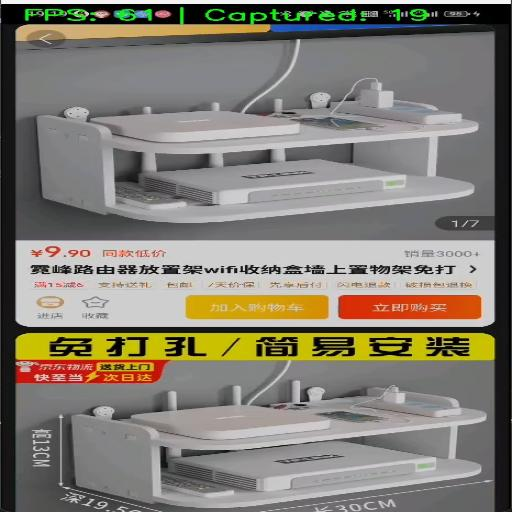back: (28, 26, 68, 48)
butten: (24, 294, 75, 324)
